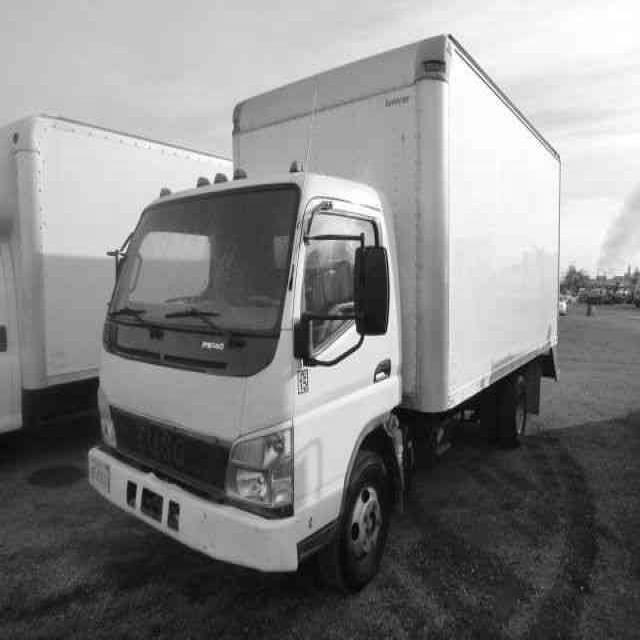truck: (71, 141, 438, 596)
